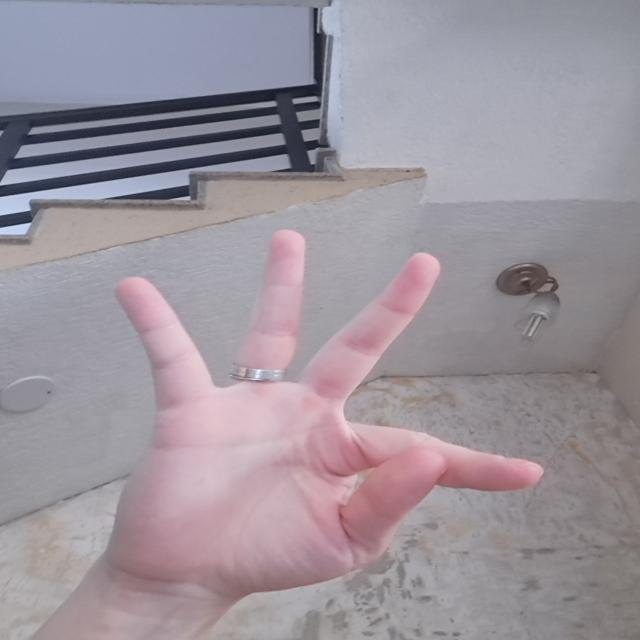T: (89, 220, 546, 602)
